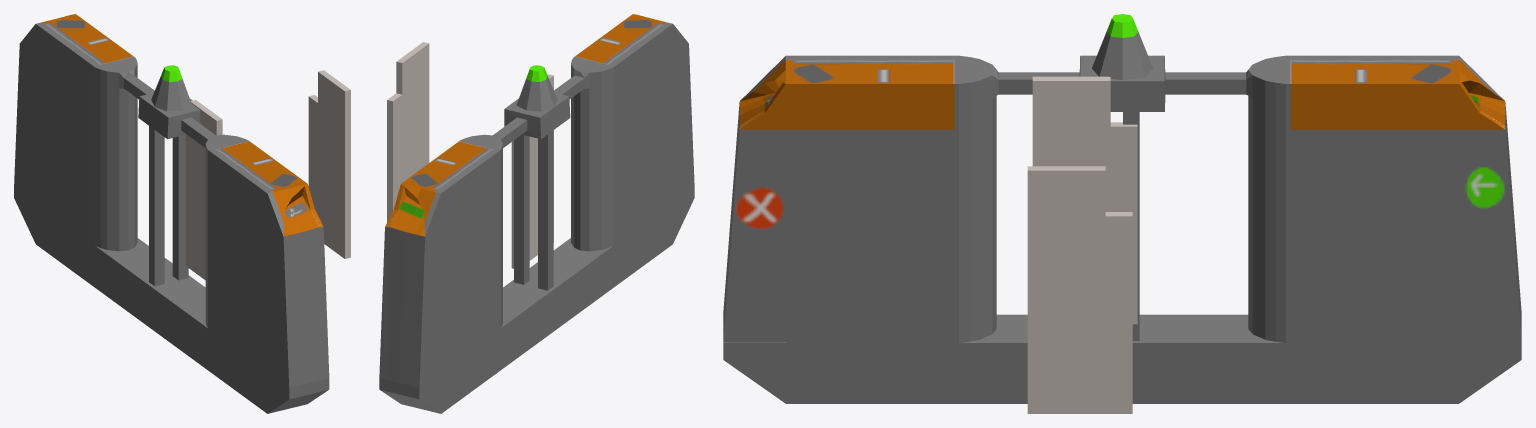
File: depart_gate_block_right_open.obj
The picture shows the model from 3 angles, left to right: view 1: azimuth 30°, elevation 25°; view 2: azimuth 150°, elevation 25°; view 3: azimuth 270°, elevation 25°; orthographic projection. The views are drawn at different scales.
Visible parts, largest first — view 1: cube; view 2: cube; view 3: cube.
Part boxes in pixels (x1,y1,x2,y2): cube: [14, 14, 350, 413]; cube: [379, 14, 694, 413]; cube: [723, 14, 1521, 413].
Bounding box in the file's own units: 1.04 × 1.52 × 2.97.
